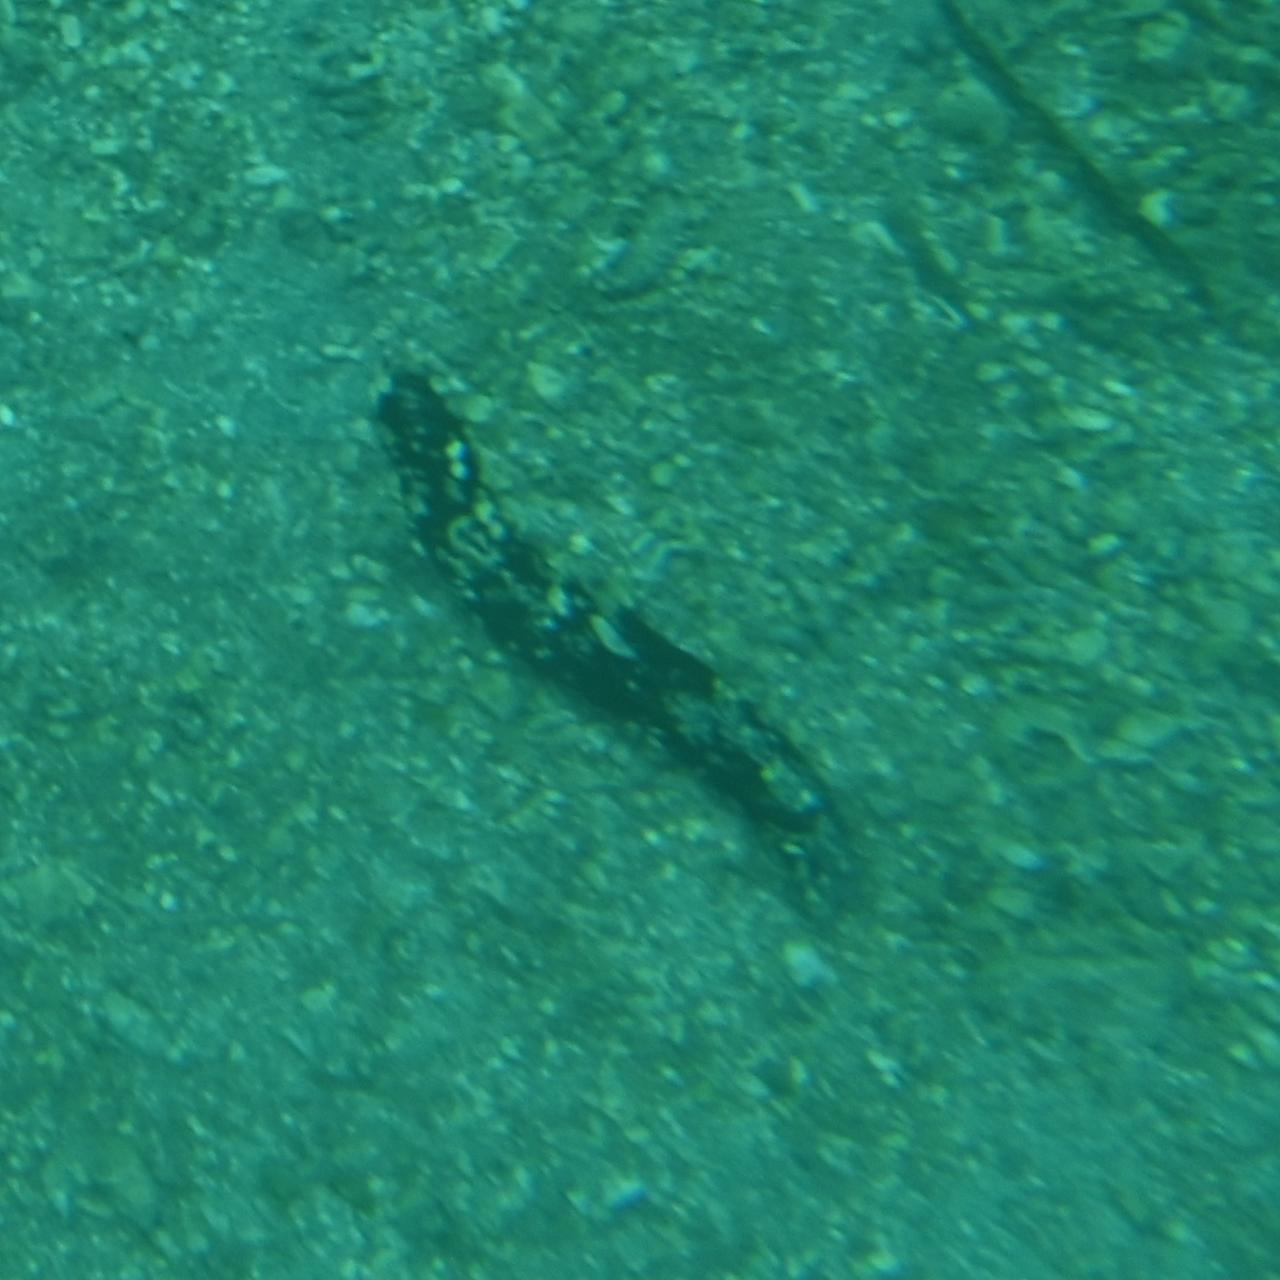Holothuria tubulosa: (390, 359, 890, 921)
